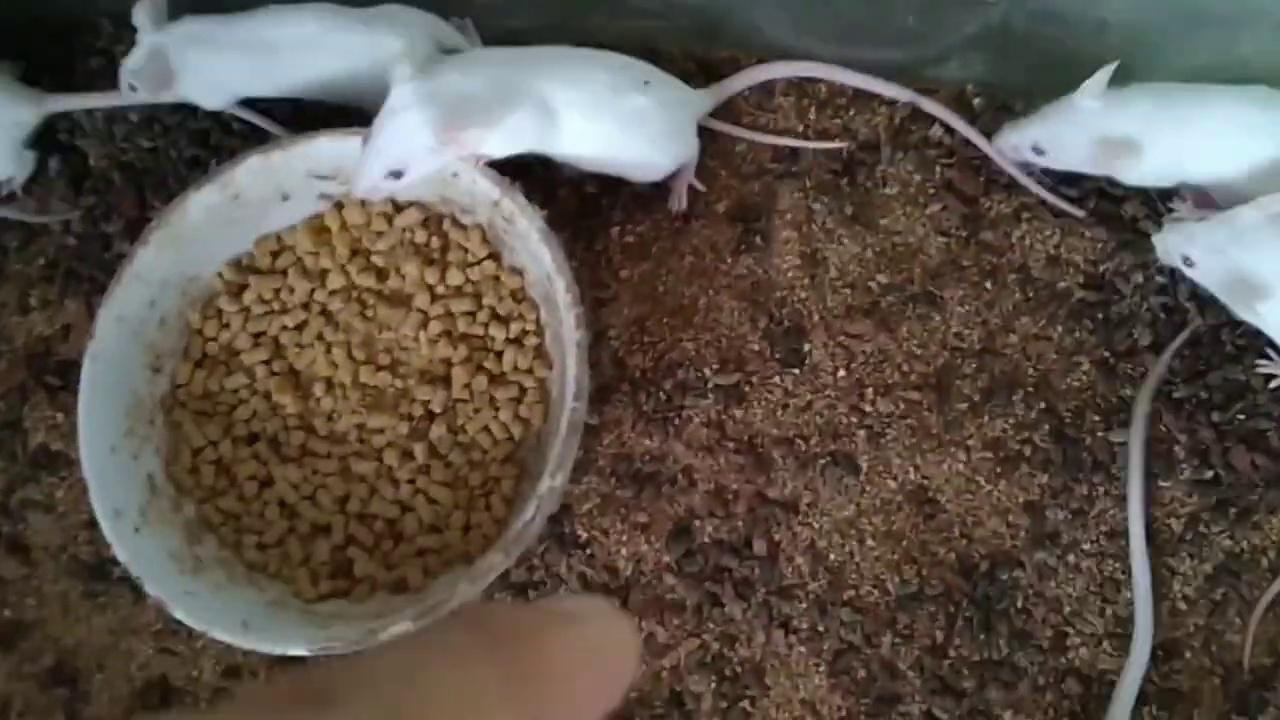rat: (346, 43, 1076, 216), (116, 3, 482, 110), (991, 58, 1277, 188), (1135, 190, 1280, 391)
